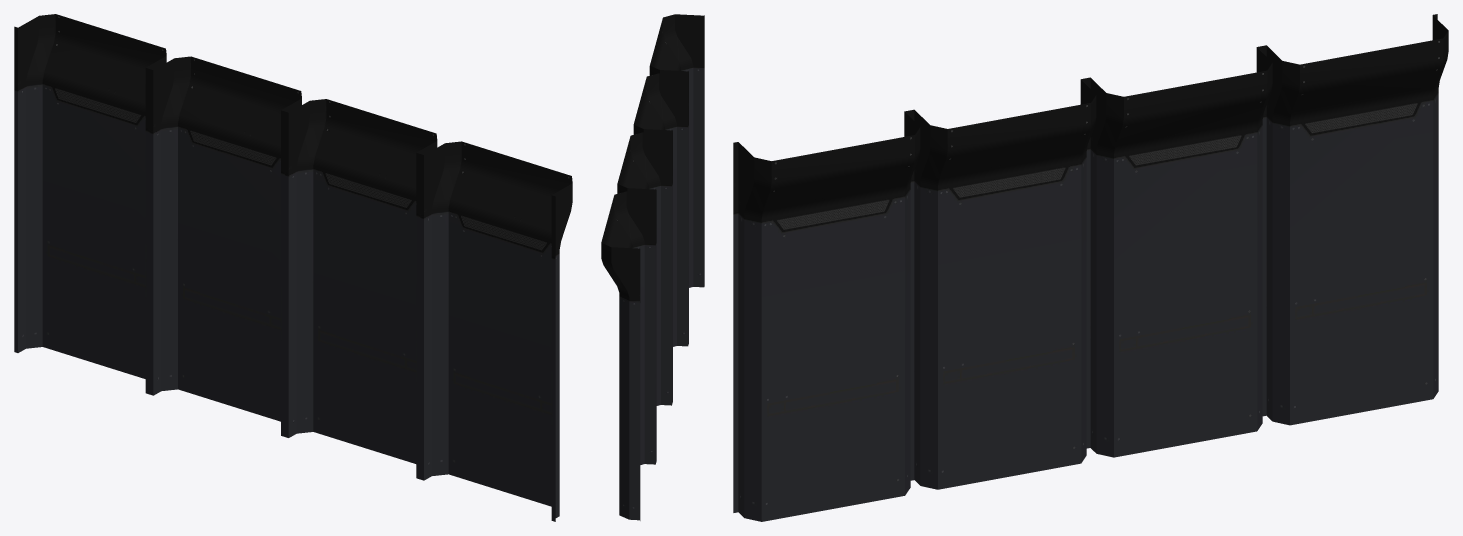
File: wall_tunnel.glb
The picture shows the model from 3 angles, left to right: view 1: azimuth 30°, elevation 25°; view 2: azimuth 150°, elevation 25°; view 3: azimuth 270°, elevation 25°; orthographic projection. The views are drawn at different scales.
Visible parts, largest first — view 1: Wall_tunnel_low; view 2: Wall_tunnel_low; view 3: Wall_tunnel_low.
Part boxes in pixels (x1=…): Wall_tunnel_low: x1=14, y1=14, x2=572, y2=521; Wall_tunnel_low: x1=601, y1=14, x2=704, y2=520; Wall_tunnel_low: x1=733, y1=14, x2=1448, y2=521.
Bounding box in the file's own units: 1.49 × 1.75 × 3.06.
1 material, 1 textured.
